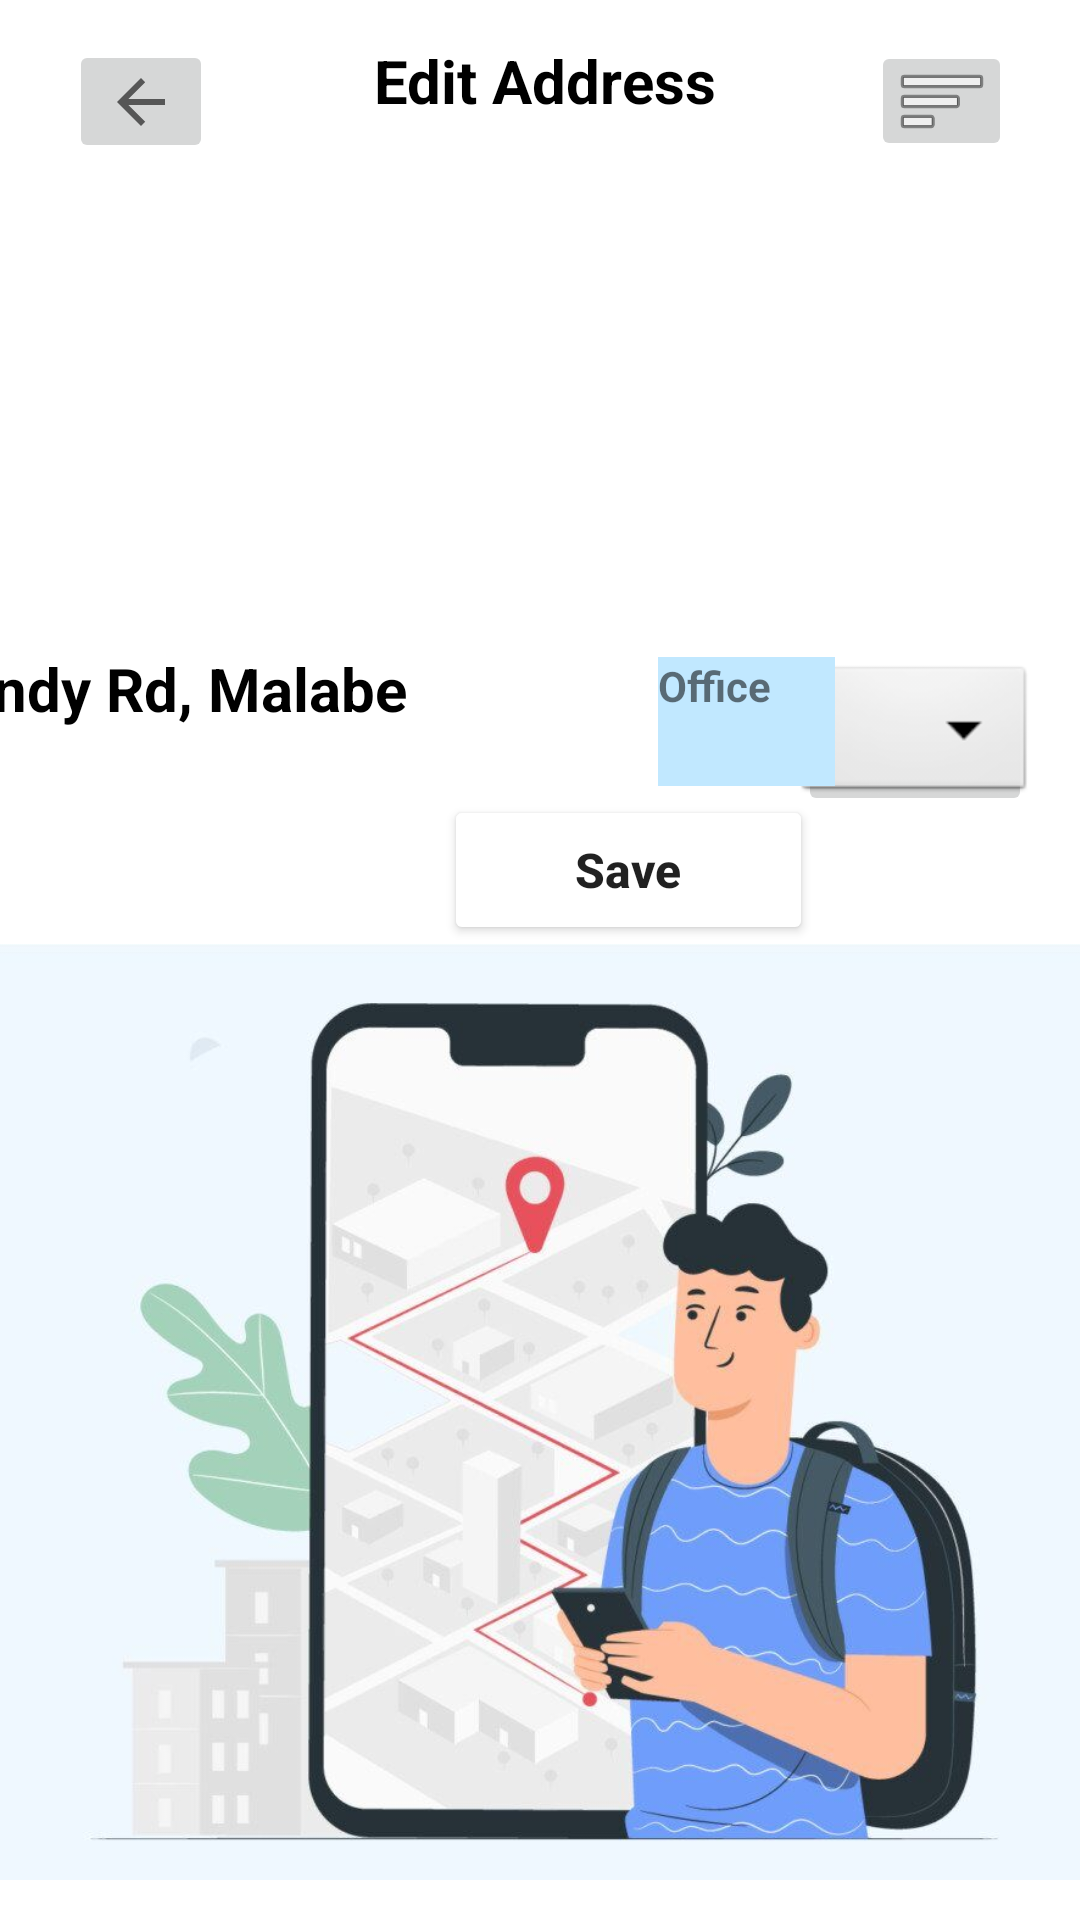

Screen size 1080 x 1920. Icon name, then its box in pixels as (x1=x1, y1=y1, x2=x2, y2=y2):
dropdown: (x1=798, y1=657, x2=1027, y2=816)
